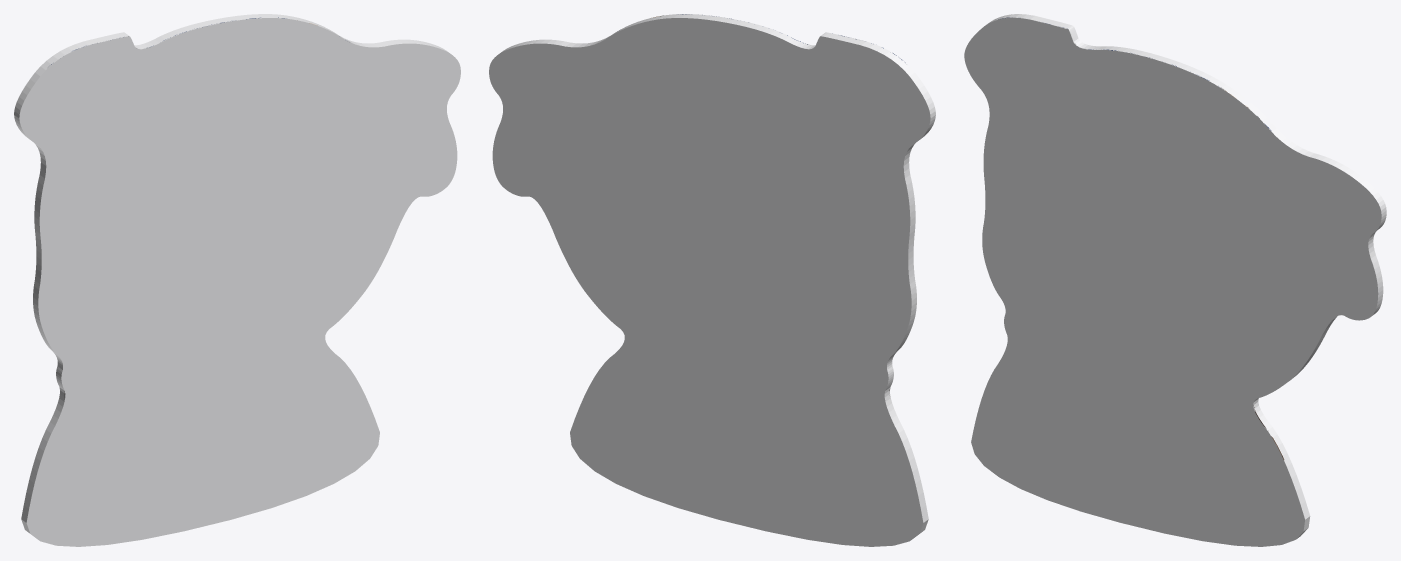
3 views of the same model, side by side, from view 1: azimuth 30°, elevation 25°; view 2: azimuth 150°, elevation 25°; view 3: azimuth 330°, elevation 25° (orthographic). The views are drawn at different scales.
Visible parts, largest first — view 1: 亚克力板; view 2: 亚克力板; view 3: 亚克力板.
Part boxes in pixels (left/top/right/bottom): 亚克力板: left=14, top=14, right=460, bottom=546; 亚克力板: left=489, top=14, right=935, bottom=546; 亚克力板: left=964, top=14, right=1386, bottom=546.
Bounding box in the file's own units: 0.4732 × 0.5215 × 0.00999.
Materials: 2 (1 with a texture image).
